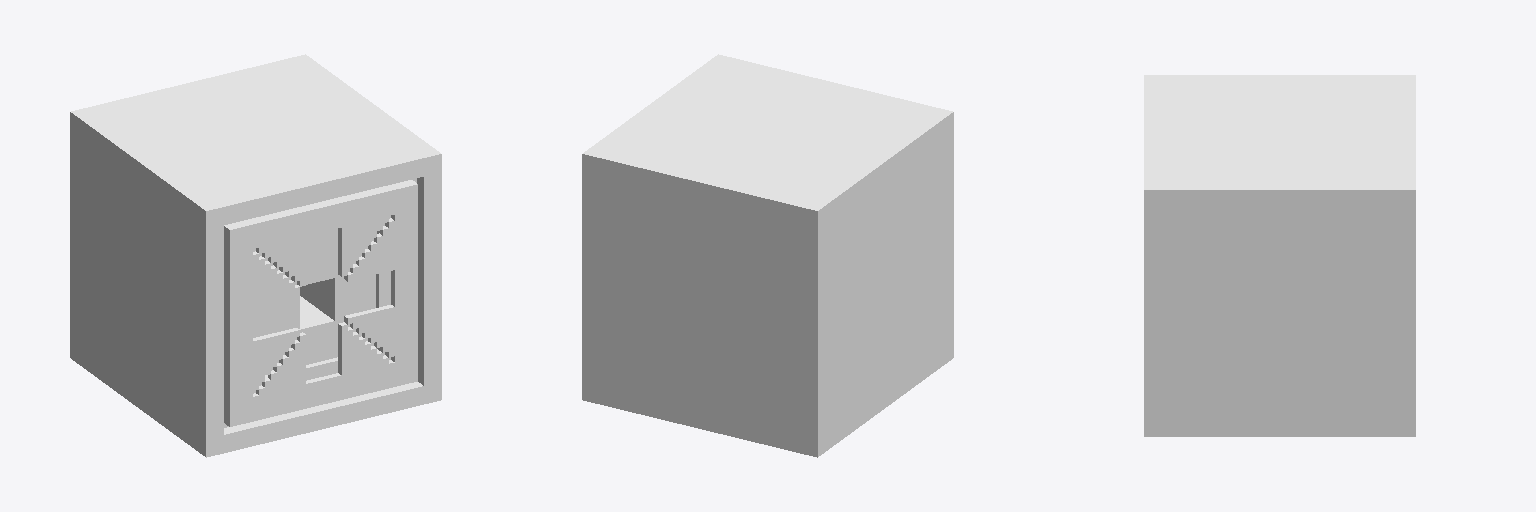
File: playerv5.obj
3 views of the same model, side by side, from view 1: azimuth 30°, elevation 25°; view 2: azimuth 150°, elevation 25°; view 3: azimuth 270°, elevation 25° (orthographic).
Visible parts, largest first — view 1: object 1; view 2: object 1; view 3: object 1.
Part boxes in pixels (x1,y1,x2,y2): object 1: (70,54,441,457); object 1: (582,54,953,457); object 1: (1144,75,1415,436).
Size of the model in its own units: 4 by 4 by 4.